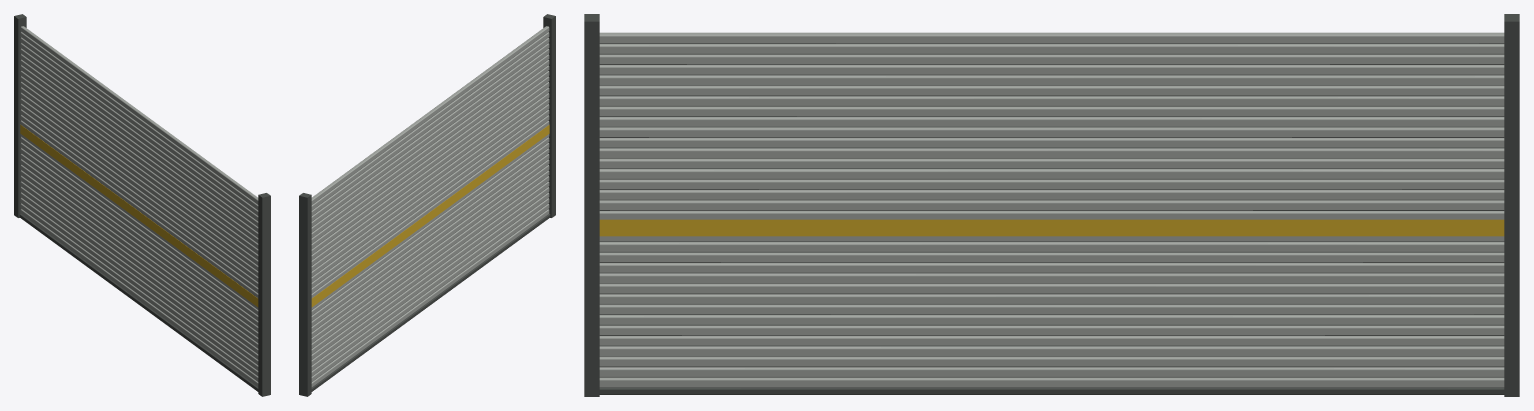
File: fire_shutter.glb
3 renders of one model, left to right at view 1: azimuth 30°, elevation 25°; view 2: azimuth 150°, elevation 25°; view 3: azimuth 270°, elevation 25°, orthographic. The views are drawn at different scales.
Visible parts, largest first — view 1: fire_shutter; view 2: fire_shutter; view 3: fire_shutter.
Boxes of the visible parts, left/top/right/bottom form: fire_shutter: left=14, top=14, right=270, bottom=396; fire_shutter: left=299, top=14, right=555, bottom=396; fire_shutter: left=584, top=14, right=1519, bottom=396.
Size of the model in its own units: 0.12 by 2.7 by 6.1.
